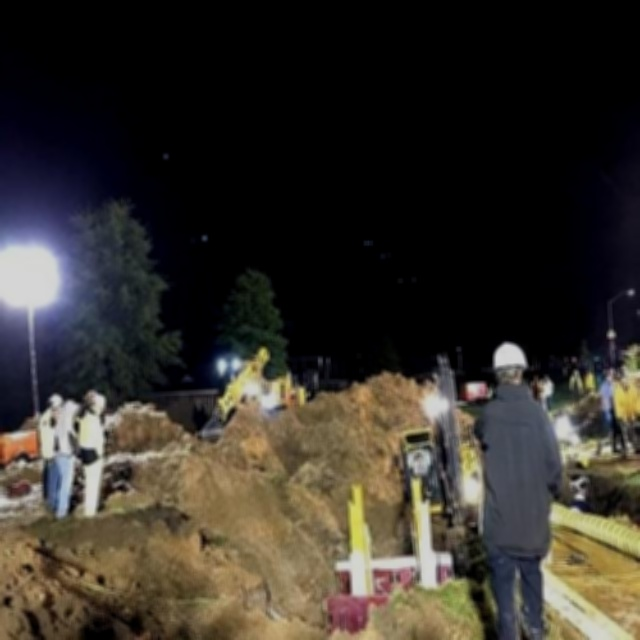Sin_Chaleco: (478, 394, 552, 550)
